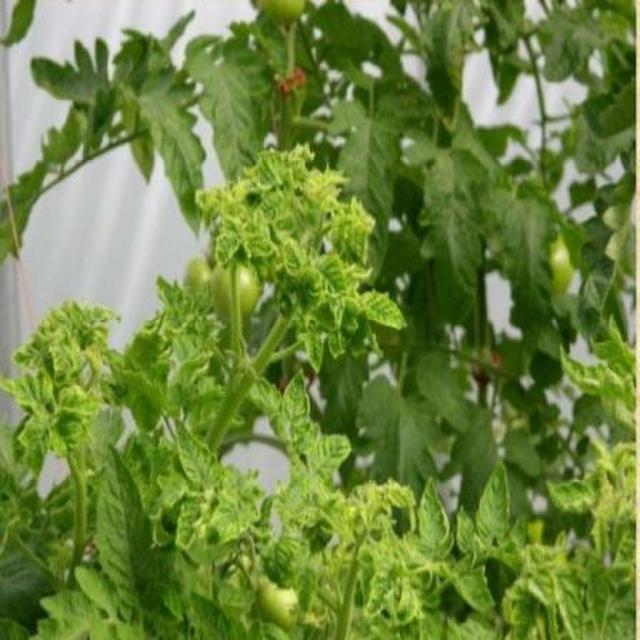Yellow Leaf Curl Virus: (32, 53, 640, 640)
